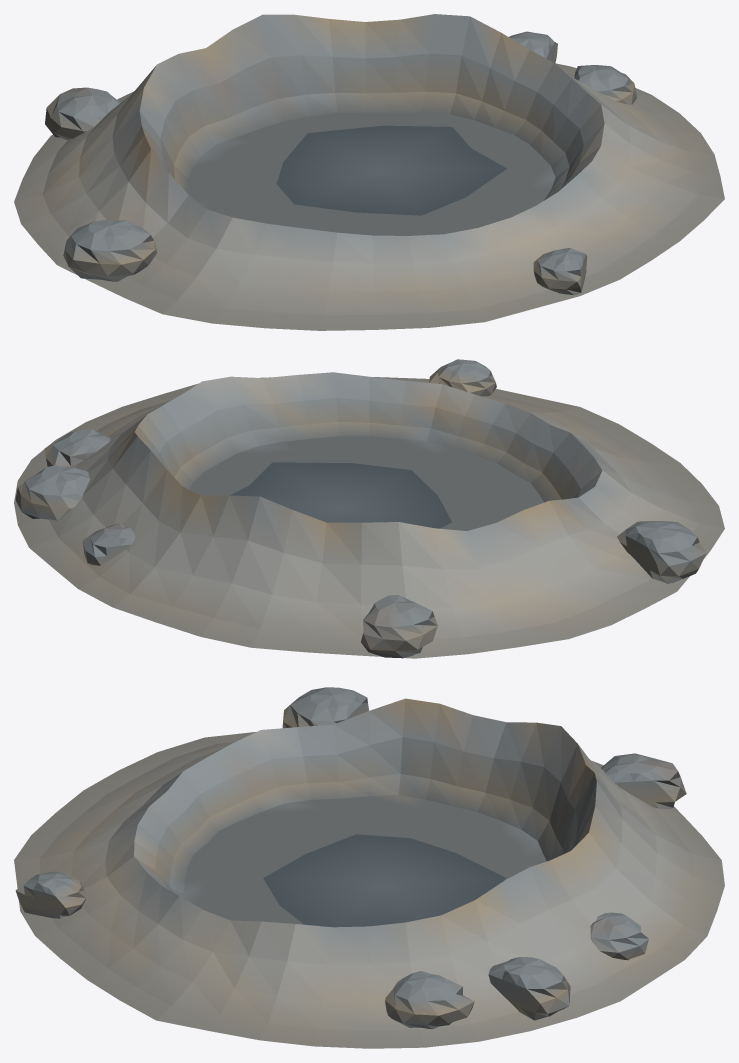
Rendered from clay_bank_dug_a.glb.
3 renders of one model, top to bottom at view 1: azimuth 30°, elevation 25°; view 2: azimuth 150°, elevation 25°; view 3: azimuth 270°, elevation 25°, orthographic. The views are drawn at different scales.
Parts seen in each view (by area): view 1: clay_bank_dug_a; view 2: clay_bank_dug_a; view 3: clay_bank_dug_a.
Part boxes in pixels (<box>): clay_bank_dug_a: <box>14,14,724,330</box>; clay_bank_dug_a: <box>14,359,724,658</box>; clay_bank_dug_a: <box>14,687,724,1048</box>.
Bounding box in the file's own units: 1.05 × 0.1565 × 0.9608.
